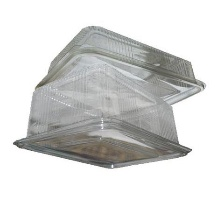plastic_box: (8, 59, 197, 174), (27, 22, 209, 125)
